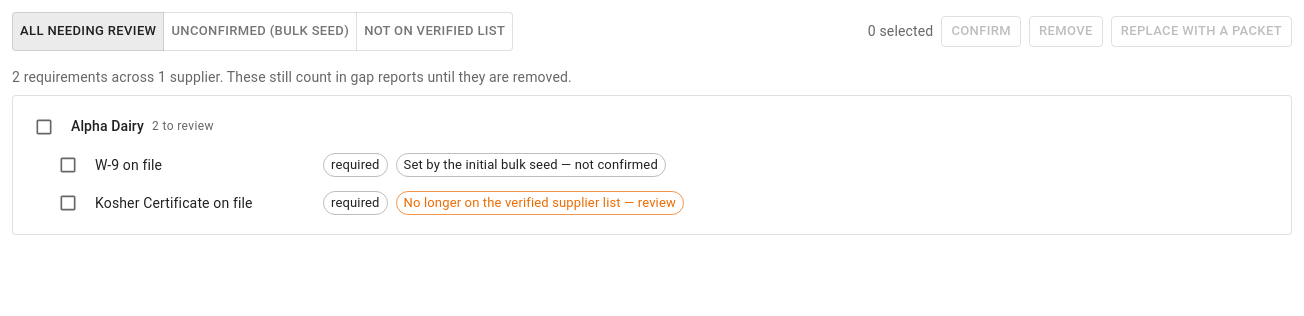
RequirementsWorklist › explains each row and confirms the selection
Expected: the text "Set by the initial bulk seed — not confirmed" is shown, [397,155,665,174]
Expected: the text "No longer on the verified supplier list — review" is shown, [397,193,683,212]
Click the checkbox named "Select all for Alpha Dairy".
click(44, 127)  # box [34,117,54,137]
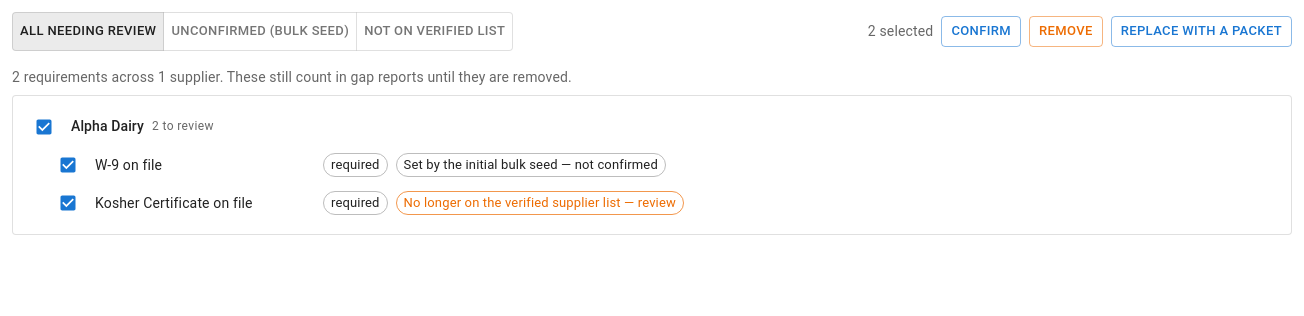
Click the button "Confirm".
click(981, 31)  # box [941,16,1021,47]
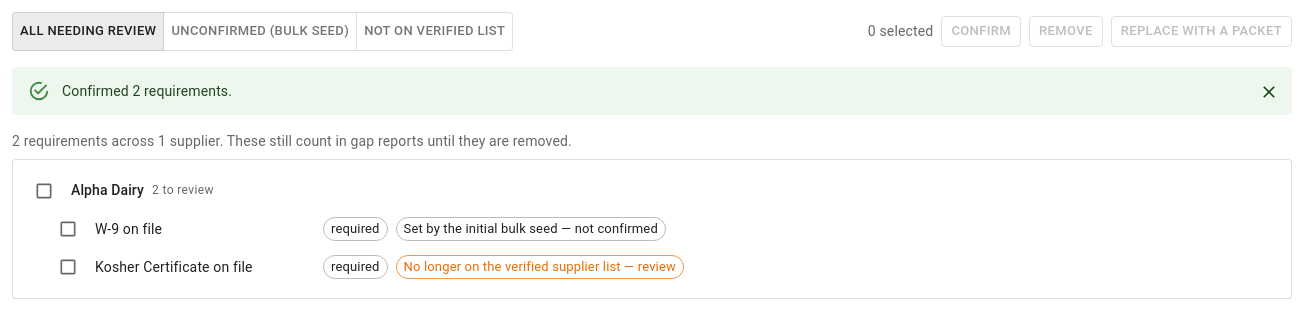
Expected: the text "Confirmed 2 requirements." is shown, [62,83,232,99]
